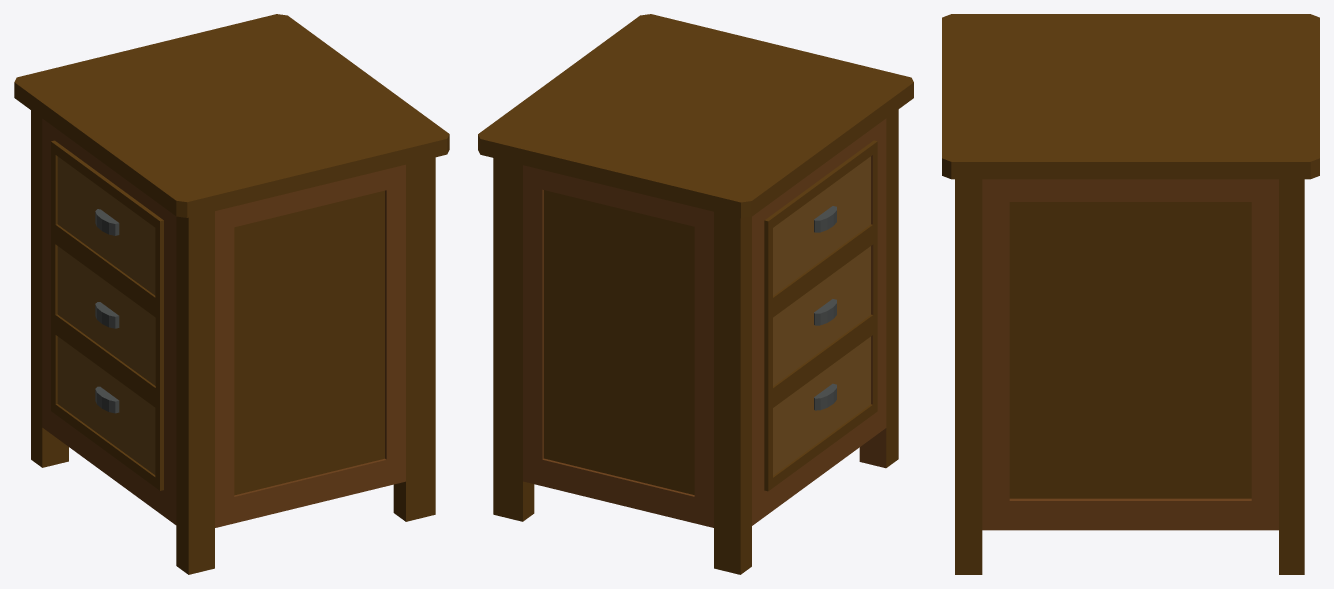
File: SM_BedsideTable.fbx
3 views of the same model, side by side, from view 1: azimuth 30°, elevation 25°; view 2: azimuth 150°, elevation 25°; view 3: azimuth 270°, elevation 25° (orthographic). The views are drawn at different scales.
Visible parts, largest first — view 1: SM_Criado, SM_Criado.001; view 2: SM_Criado, SM_Criado.001; view 3: SM_Criado.
Part boxes in pixels (x1,y1,x2,y2): SM_Criado: (14,14,449,574); SM_Criado.001: (57,156,155,295); SM_Criado: (478,14,913,574); SM_Criado.001: (773,156,870,295); SM_Criado: (942,14,1319,574).
Bounding box in the file's own units: 57.86 × 76.58 × 62.48.
